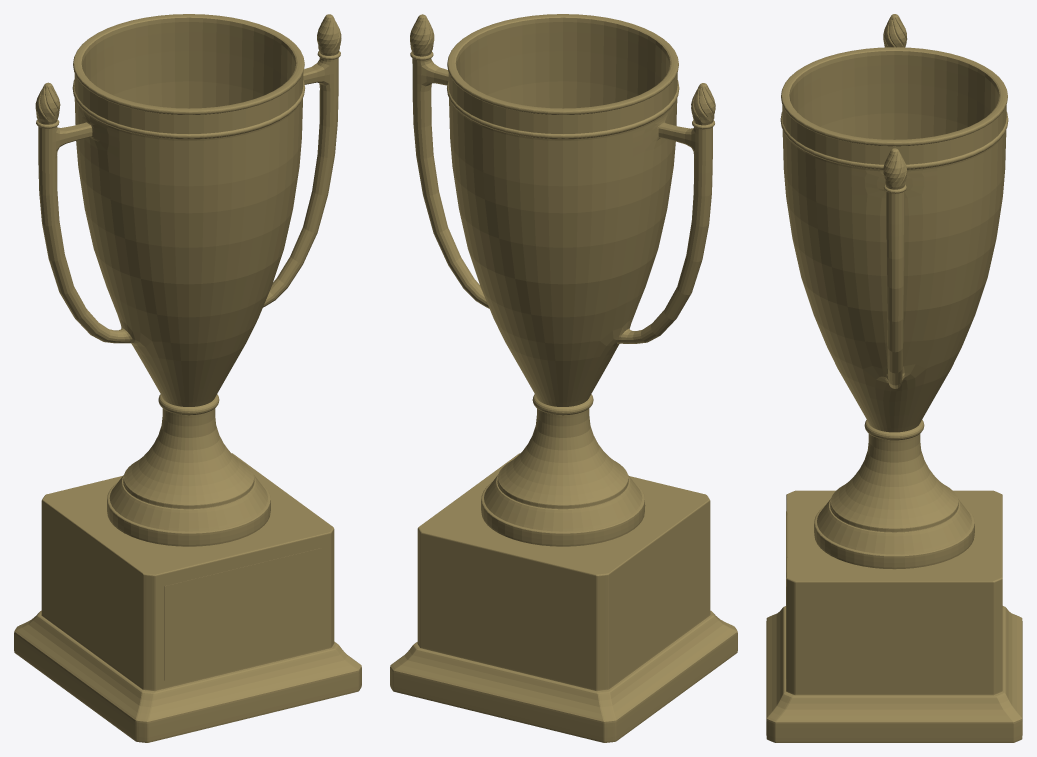
File: coupe_t_.fbx
3 renders of one model, left to right at view 1: azimuth 30°, elevation 25°; view 2: azimuth 150°, elevation 25°; view 3: azimuth 270°, elevation 25°, orthographic. The views are drawn at different scales.
Parts seen in each view (by area): view 1: Cup.obj; view 2: Cup.obj; view 3: Cup.obj.
Boxes of the visible parts, x1,y1,x2,y2 form: Cup.obj: (14,14,361,742); Cup.obj: (390,14,737,742); Cup.obj: (766,14,1022,742).
Size of the model in its own units: 22.78 by 44.59 by 17.03.
